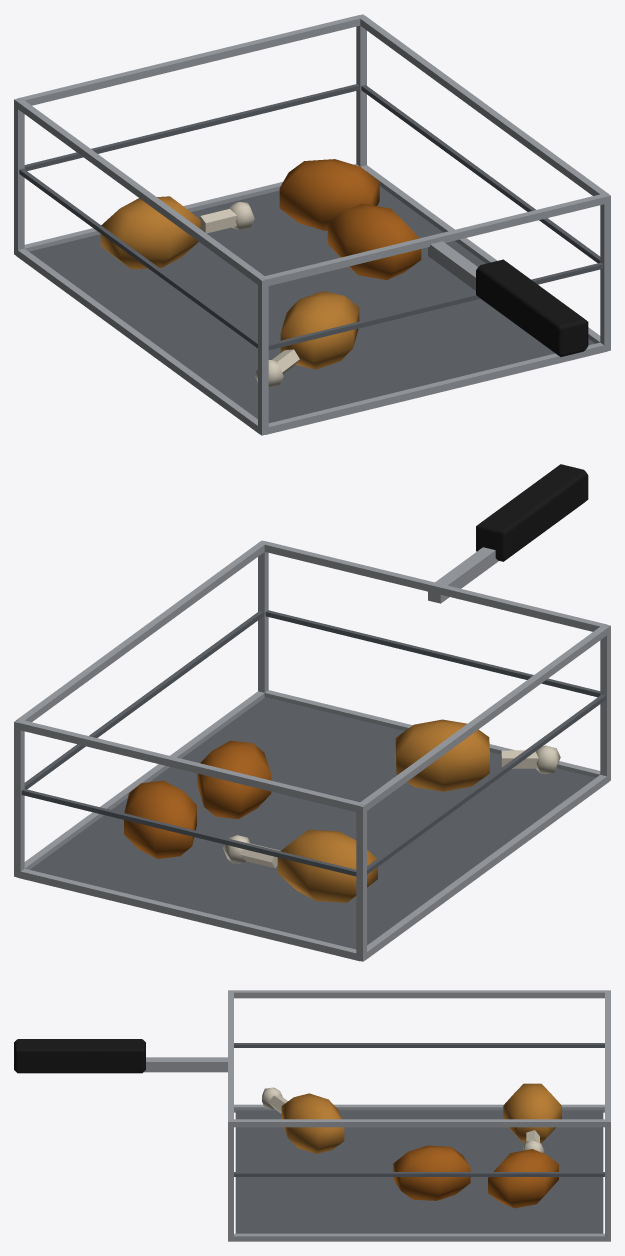
Rendered from chicken-basket.glb.
The picture shows the model from 3 angles, top to bottom: view 1: azimuth 30°, elevation 25°; view 2: azimuth 150°, elevation 25°; view 3: azimuth 270°, elevation 25°; orthographic projection. The views are drawn at different scales.
Parts seen in each view (by area): view 1: BODY; view 2: BODY; view 3: BODY.
Boxes of the visible parts, x1,y1,x2,y2 form: BODY: [14, 14, 610, 435]; BODY: [14, 464, 610, 961]; BODY: [14, 990, 610, 1241].
Bounding box in the file's own units: 0.3304 × 0.1552 × 0.6332.
